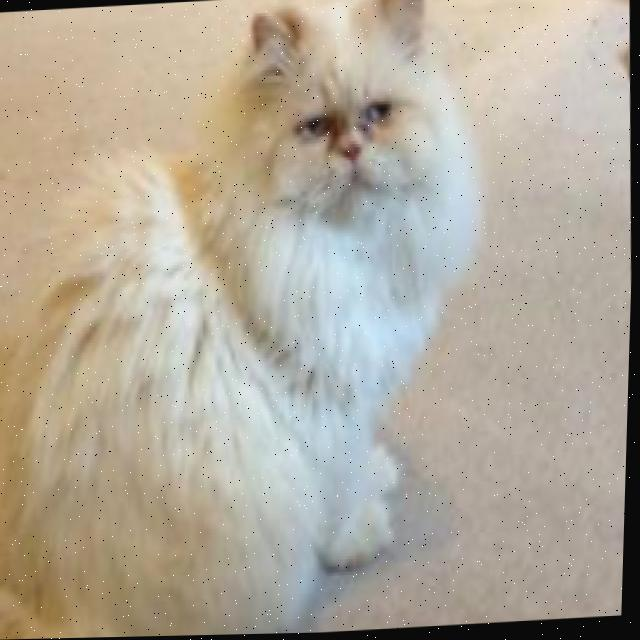Persian: (0, 0, 506, 640)
